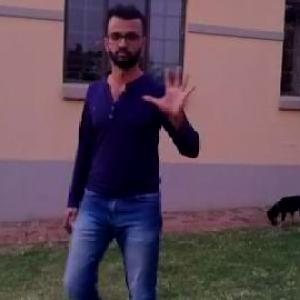follow_hand: (140, 58, 201, 123)
